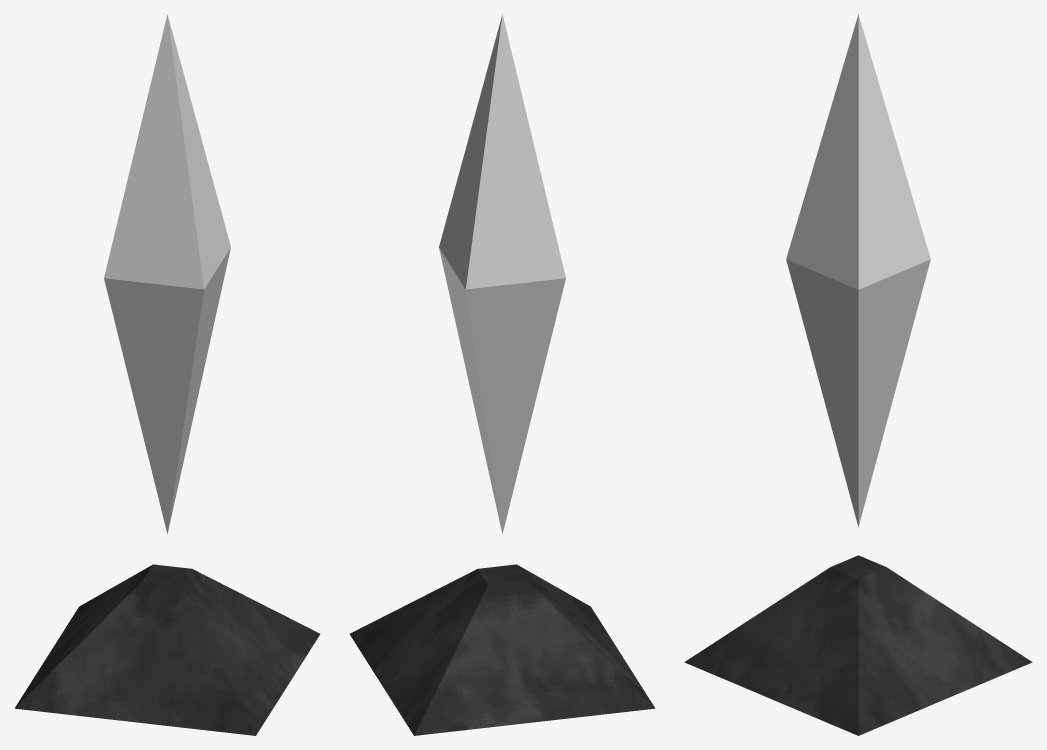
The model's file is magic_crystal_switch.fbx.
The picture shows the model from 3 angles, left to right: view 1: azimuth 30°, elevation 25°; view 2: azimuth 150°, elevation 25°; view 3: azimuth 270°, elevation 25°; orthographic projection.
Parts seen in each view (by area): view 1: magic_crystal_switch_base, magic_crystal_switch_body; view 2: magic_crystal_switch_base, magic_crystal_switch_body; view 3: magic_crystal_switch_body, magic_crystal_switch_base.
Boxes of the visible parts, x1=… form: magic_crystal_switch_base: x1=14, y1=564, x2=320, y2=735; magic_crystal_switch_body: x1=104, y1=14, x2=230, y2=534; magic_crystal_switch_base: x1=349, y1=564, x2=655, y2=735; magic_crystal_switch_body: x1=439, y1=14, x2=565, y2=534; magic_crystal_switch_body: x1=786, y1=14, x2=930, y2=527; magic_crystal_switch_base: x1=684, y1=555, x2=1032, y2=735.
Size of the model in its own units: 0.8659 by 1.78 by 0.8659.
